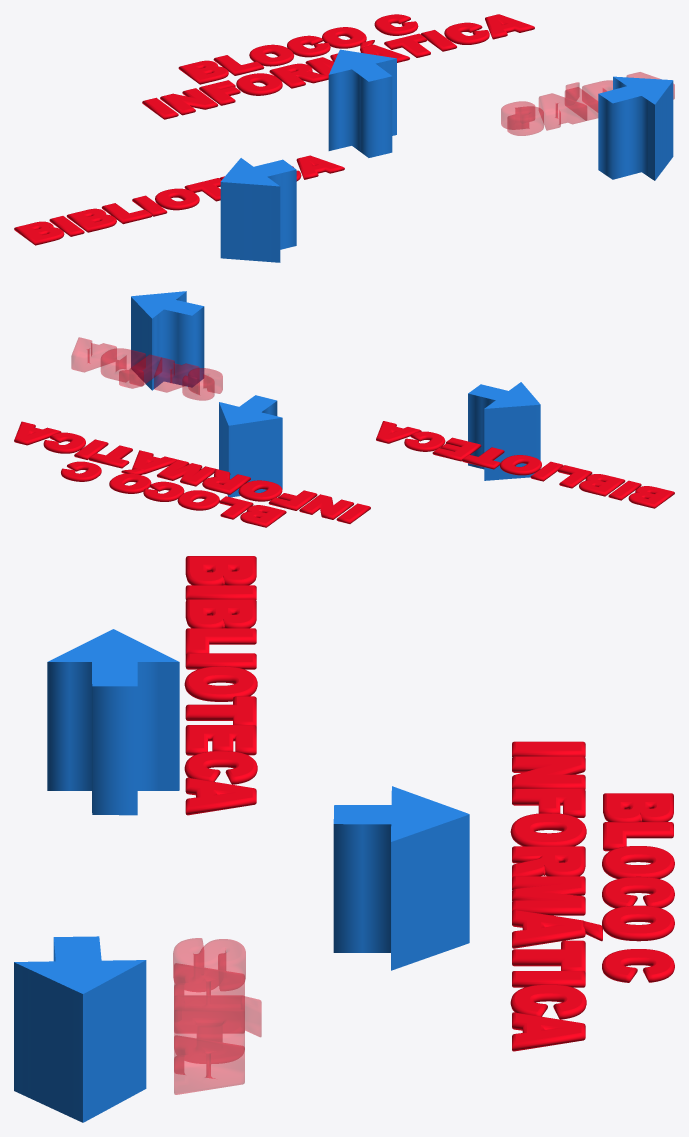
Rendered from setaif.glb.
The picture shows the model from 3 angles, top to bottom: view 1: azimuth 30°, elevation 25°; view 2: azimuth 150°, elevation 25°; view 3: azimuth 270°, elevation 25°; orthographic projection. The views are drawn at different scales.
Visible parts, largest first — view 1: Curve.002, Text.003, Curve.003, Curve.004, Text, Text.002, Text.001; view 2: Text.003, Curve.003, Text, Curve.002, Curve.004, Text.001, Text.002; view 3: Text.003, Curve.004, Curve.003, Curve.002, Text, Text.002, Text.001.
Boxes of the visible parts, bbox=[...] form: Curve.002: bbox=[220, 158, 296, 262]; Text.003: bbox=[142, 14, 534, 119]; Curve.003: bbox=[598, 76, 673, 180]; Curve.004: bbox=[328, 49, 396, 157]; Text: bbox=[14, 155, 344, 245]; Text.002: bbox=[178, 14, 418, 84]; Text.001: bbox=[501, 72, 674, 135]; Text.003: bbox=[14, 421, 370, 523]; Curve.003: bbox=[131, 291, 204, 390]; Text: bbox=[376, 421, 674, 508]; Curve.002: bbox=[468, 382, 540, 480]; Curve.004: bbox=[219, 395, 282, 497]; Text.001: bbox=[71, 337, 222, 400]; Text.002: bbox=[61, 461, 286, 527]; Text.003: bbox=[510, 741, 602, 1051]; Curve.004: bbox=[333, 786, 469, 970]; Curve.003: bbox=[14, 936, 146, 1122]; Curve.002: bbox=[47, 629, 179, 815]; Text: bbox=[184, 556, 257, 815]; Text.002: bbox=[602, 793, 674, 982]; Text.001: bbox=[173, 938, 261, 1094].
Bounding box in the file's own units: 3.05 × 0.3494 × 1.63.
